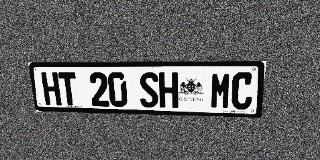0: (107, 72, 128, 107)
2: (89, 72, 109, 106)
C: (231, 72, 254, 110)
H: (41, 72, 62, 105), (159, 72, 178, 108)
M: (210, 72, 232, 109)
S: (139, 72, 159, 108)
T: (58, 72, 79, 106)
